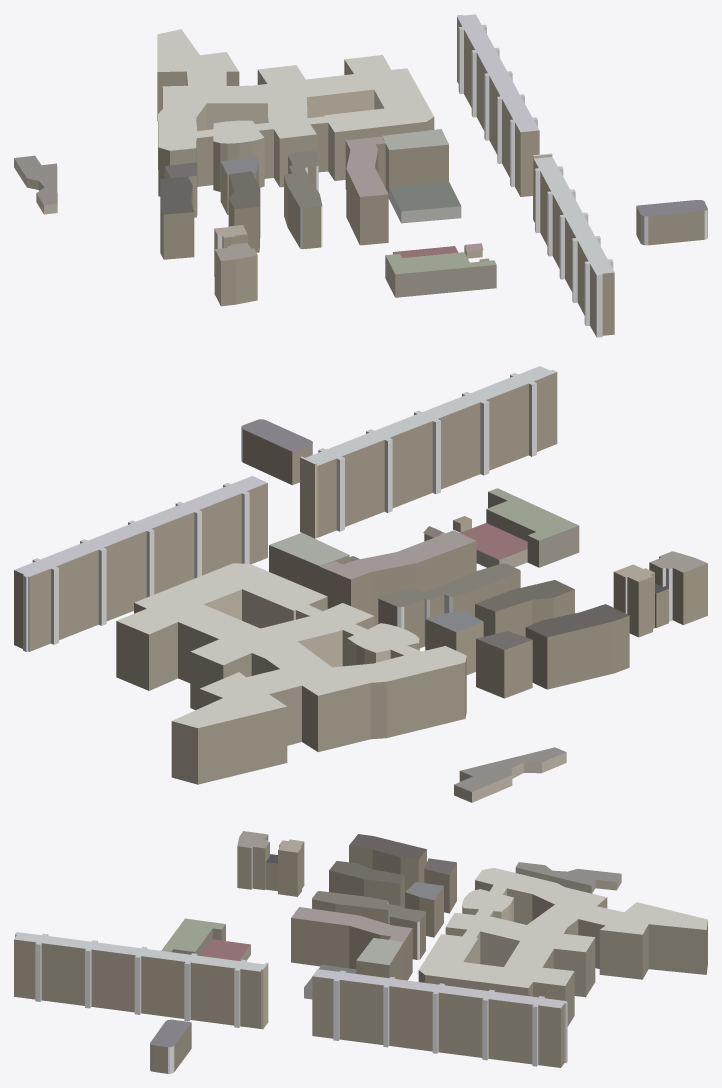
3 renders of one model, top to bottom at view 1: azimuth 30°, elevation 25°; view 2: azimuth 150°, elevation 25°; view 3: azimuth 270°, elevation 25°, orthographic. The views are drawn at different scales.
Parts seen in each view (by area): view 1: tuile; view 2: tuile; view 3: tuile.
Boxes of the visible parts, x1,y1,x2,y2 form: tuile: (14,14,707,337); tuile: (14,366,707,802); tuile: (14,831,707,1073).
Bounding box in the file's own units: 265 × 39.03 × 367.
